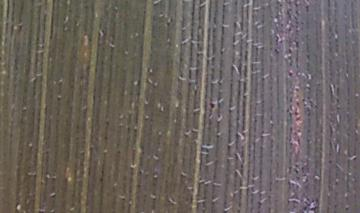tarspot: (306, 198, 320, 213), (208, 101, 218, 110), (287, 69, 295, 78), (56, 94, 62, 102), (18, 24, 24, 31)
